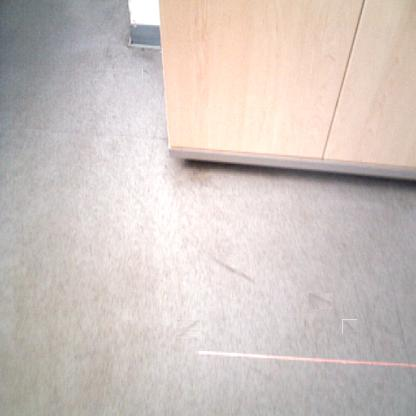mark: (209, 253, 256, 283), (178, 319, 199, 339), (309, 293, 333, 309), (342, 319, 357, 334), (142, 68, 149, 76)
